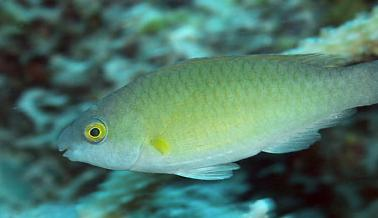Scaridae -Parrotfishes-: (49, 45, 378, 188)
